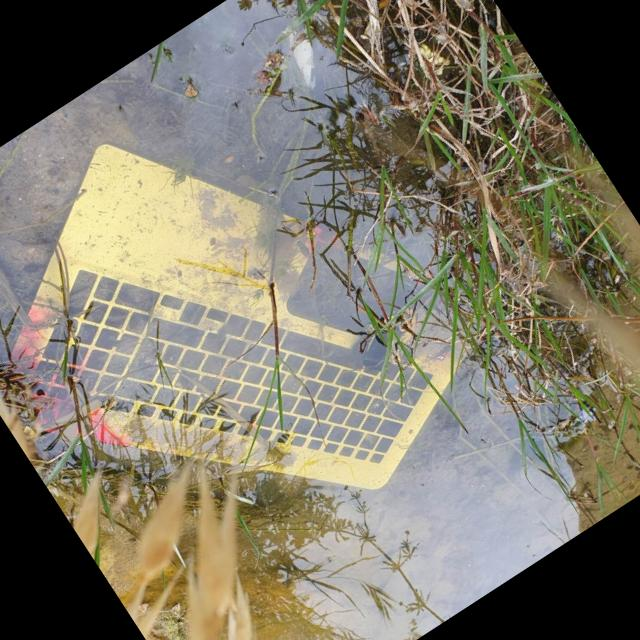Other litter: (0, 139, 494, 493)
